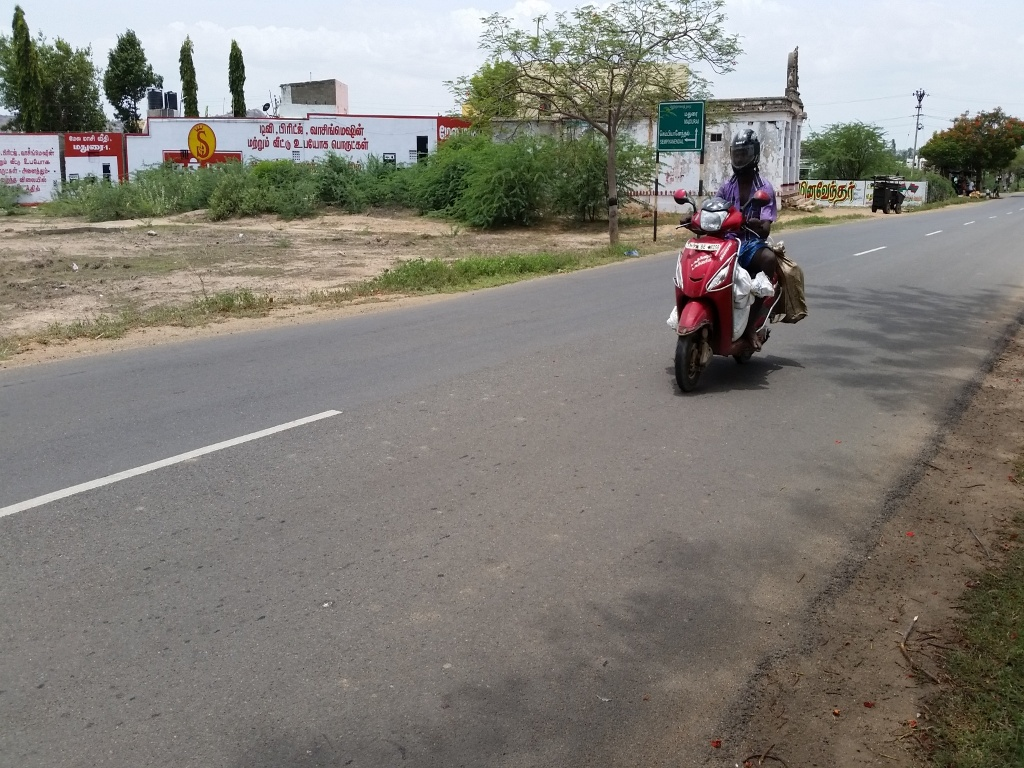biker: (637, 97, 825, 405)
helmet: (723, 118, 770, 195)
